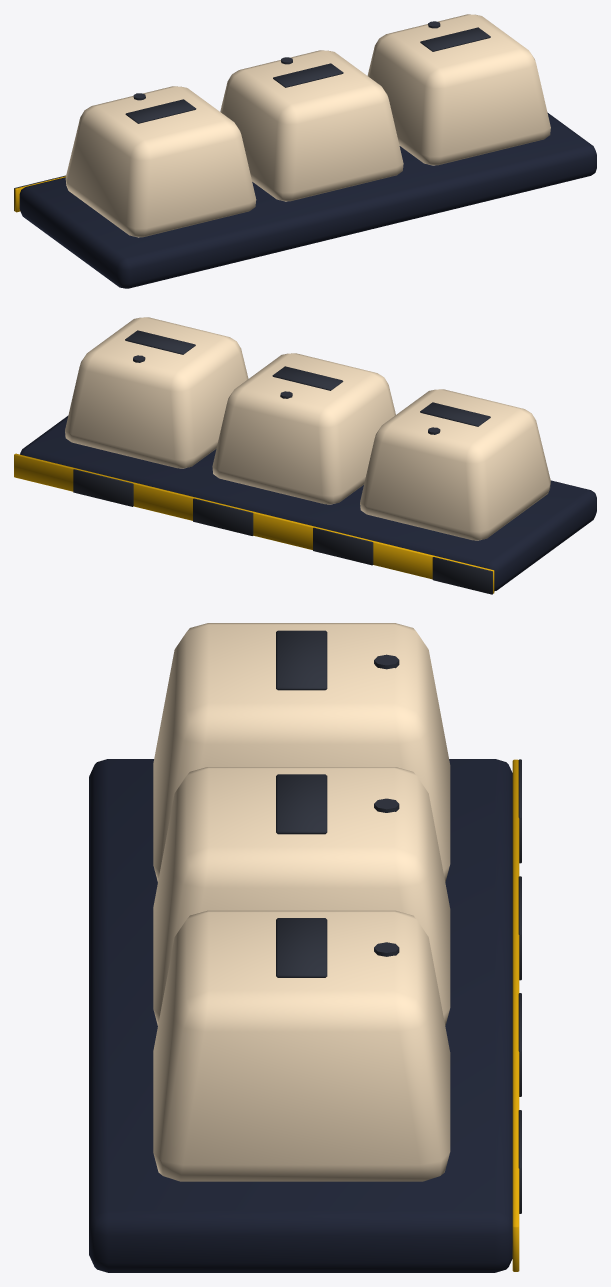
File: prop_keyboard_row_v2.glb
3 renders of one model, top to bottom at view 1: azimuth 30°, elevation 25°; view 2: azimuth 150°, elevation 25°; view 3: azimuth 270°, elevation 25°, orthographic. The views are drawn at different scales.
Parts seen in each view (by area): view 1: KeyboardRowV2; view 2: KeyboardRowV2; view 3: KeyboardRowV2.
Boxes of the visible parts, <box> form: KeyboardRowV2: <box>14,14,596,288</box>; KeyboardRowV2: <box>14,317,596,594</box>; KeyboardRowV2: <box>89,623,521,1272</box>.
Bounding box in the file's own units: 2.6 × 0.634 × 1.02.
